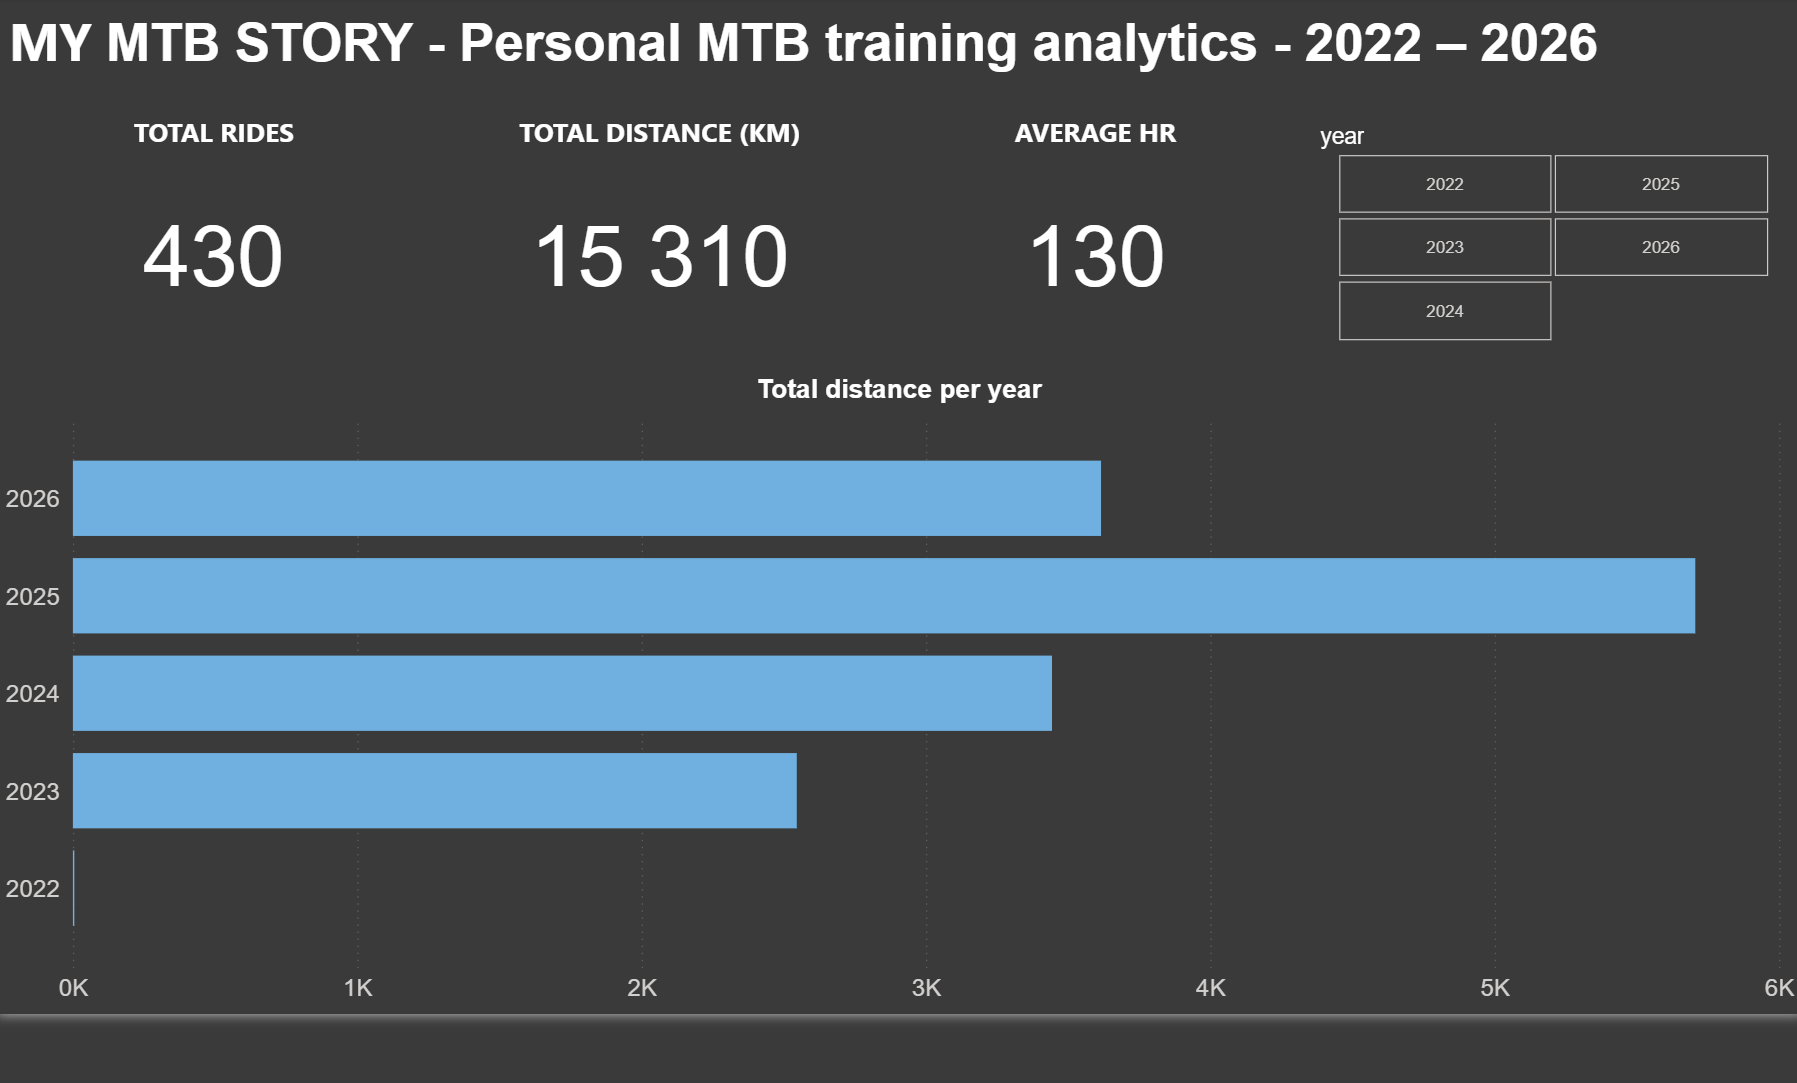

This screenshot's page, from the dashboard's own definition file:
{"tool":"powerbi","page":{"name":"Strona 1","canvas":[1280,720],"ordinal":0},"visuals":[{"type":"barChart","title":"Total distance per year","fields":{"Y":["Sum(mtb_rides_clean.distance_km)"],"Category":["mtb_rides_clean.year"]},"box":[0,266.8,1279.2,453.7],"z":0},{"type":"card","title":"TOTAL RIDES","fields":{"Values":["CountNonNull(mtb_rides_clean.duration_min)"]},"box":[0,82.2,307.6,167.4],"z":1000},{"type":"textbox","box":[3.9,0,1275.3,83.7],"z":2000},{"type":"card","title":"TOTAL DISTANCE (KM)","fields":{"Values":["Sum(mtb_rides_clean.distance_km)"]},"box":[307.6,82.2,325.2,167.4],"z":3000},{"type":"card","title":"AVERAGE HR","fields":{"Values":["Avg(mtb_rides_clean.avg_heart_rate)"]},"box":[632.8,82.2,292.1,167.4],"z":4000},{"type":"slicer","fields":{"Values":["mtb_rides_clean.year"]},"box":[925,84,354,165],"z":4001}]}

Visuals, with their boxes on the page's 1280x720 design canvas (x1, y1, x2, y2). These are canvas units, not pixel positions in the 1797x1083 screenshot, which may show the page scaled, cropped or inside an application window:
"Total distance per year" barChart: BBox(0, 267, 1279, 720)
"TOTAL RIDES" card: BBox(0, 82, 308, 250)
textbox: BBox(4, 0, 1279, 84)
"TOTAL DISTANCE (KM)" card: BBox(308, 82, 633, 250)
"AVERAGE HR" card: BBox(633, 82, 925, 250)
slicer - mtb_rides_clean.year: BBox(925, 84, 1279, 249)
